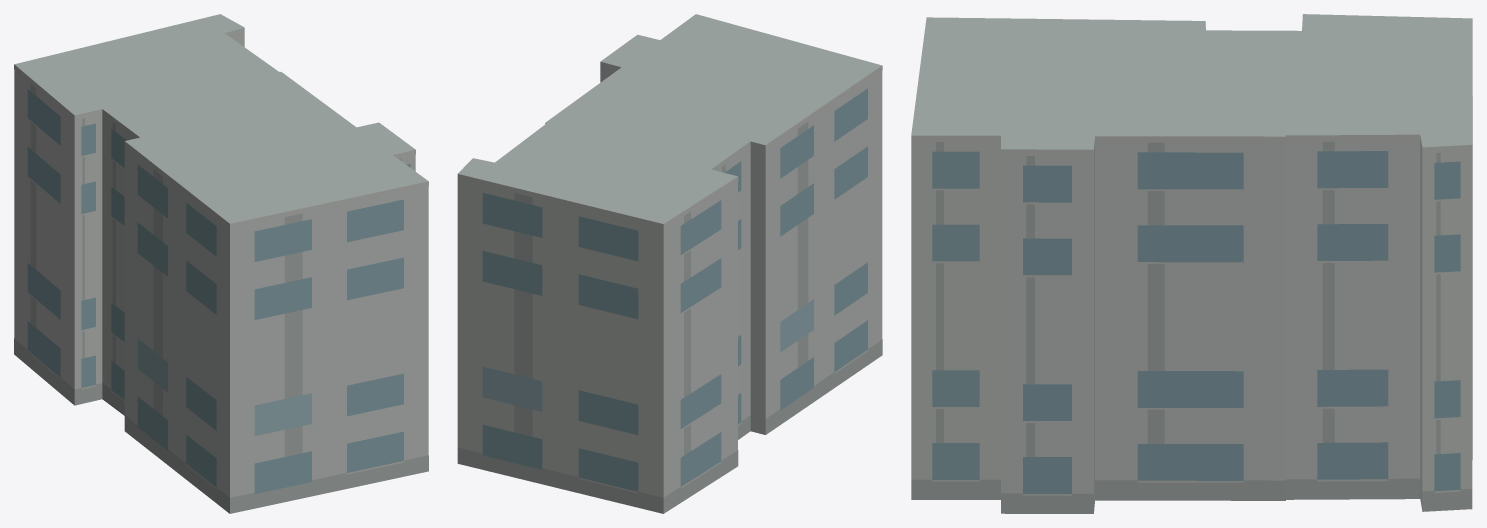
Rendered from survey-upis-32636533.glb.
3 views of the same model, side by side, from view 1: azimuth 30°, elevation 25°; view 2: azimuth 150°, elevation 25°; view 3: azimuth 270°, elevation 25° (orthographic). The views are drawn at different scales.
Parts seen in each view (by area): view 1: survey-upis-32636533.tmp; view 2: survey-upis-32636533.tmp; view 3: survey-upis-32636533.tmp.
Part boxes in pixels (x1,y1,x2,y2): survey-upis-32636533.tmp: (14, 14, 428, 513); survey-upis-32636533.tmp: (457, 14, 882, 513); survey-upis-32636533.tmp: (911, 14, 1472, 513).
Size of the model in its own units: 11.11 by 13.9 by 19.43.
